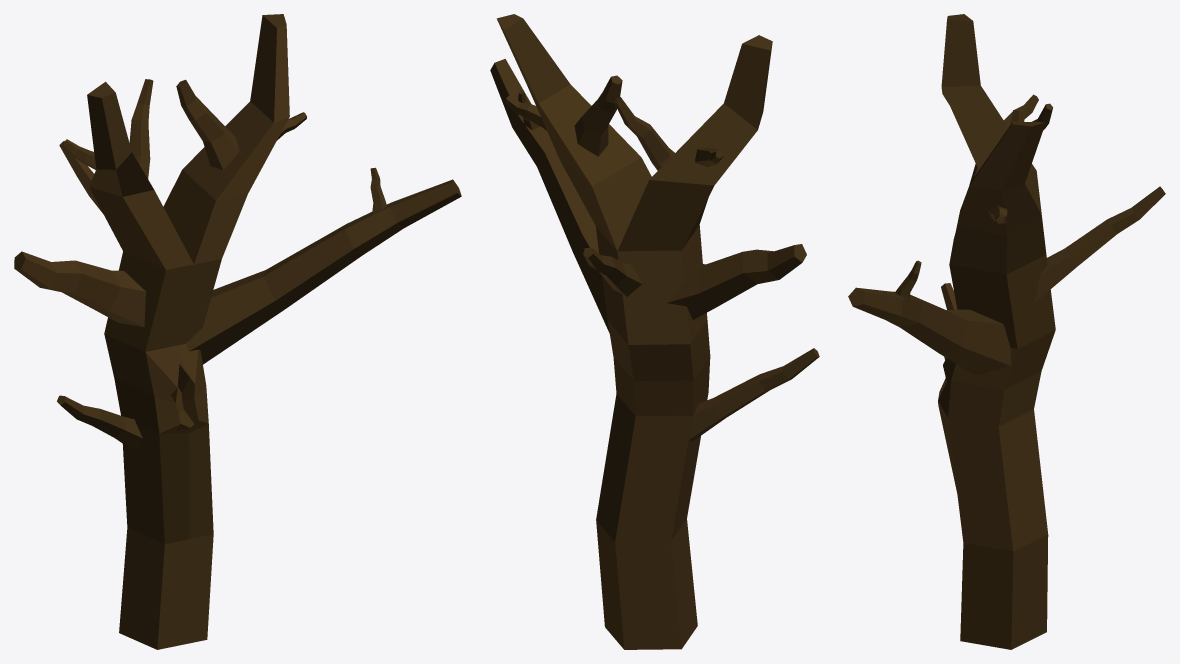
Rendered from TreeDead.fbx.
3 views of the same model, side by side, from view 1: azimuth 30°, elevation 25°; view 2: azimuth 150°, elevation 25°; view 3: azimuth 270°, elevation 25° (orthographic). The views are drawn at different scales.
Parts seen in each view (by area): view 1: Trunk.010; view 2: Trunk.010; view 3: Trunk.010.
Part boxes in pixels (x1,y1,x2,y2): Trunk.010: [14, 14, 461, 649]; Trunk.010: [490, 14, 819, 649]; Trunk.010: [848, 14, 1165, 649].
Bounding box in the file's own units: 103 × 153 × 76.55.
